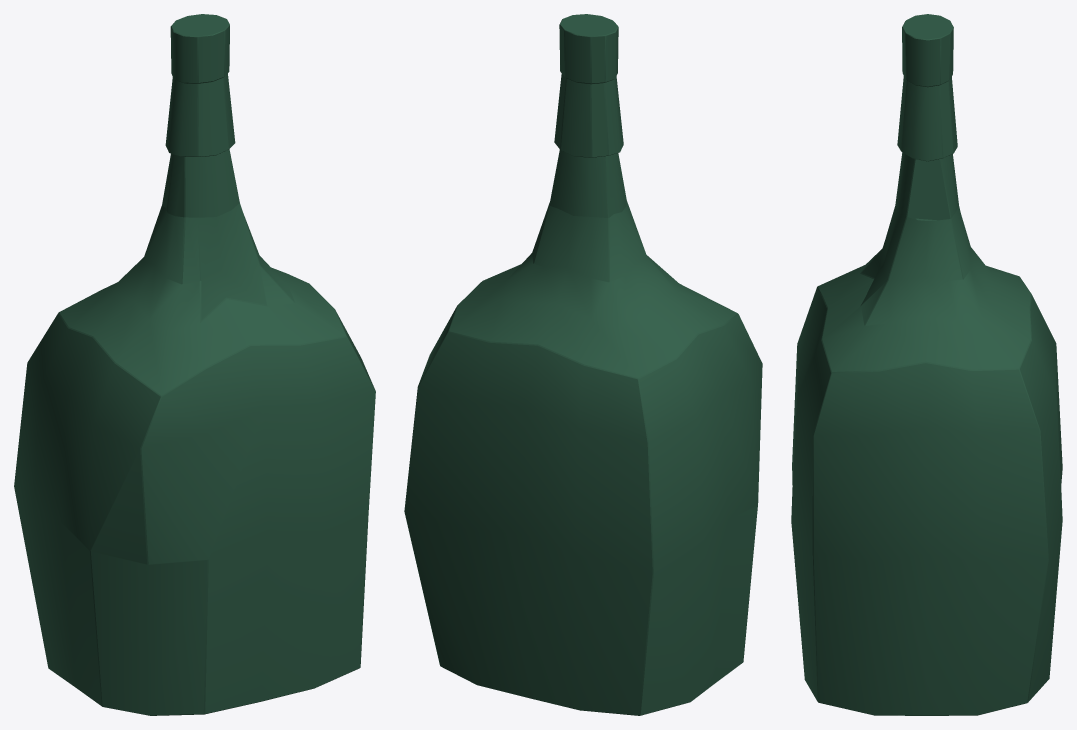
File: UD_TIR_Bottle_03_Medium.glb
3 renders of one model, left to right at view 1: azimuth 30°, elevation 25°; view 2: azimuth 150°, elevation 25°; view 3: azimuth 270°, elevation 25°, orthographic.
Parts seen in each view (by area): view 1: Bottle_03_Medium; view 2: Bottle_03_Medium; view 3: Bottle_03_Medium.
Boxes of the visible parts, x1,y1,x2,y2 form: Bottle_03_Medium: (14,14,375,715); Bottle_03_Medium: (404,14,762,715); Bottle_03_Medium: (791,14,1062,715).
Bounding box in the file's own units: 0.1164 × 0.2497 × 0.0976.
Materials: 1 (1 with a texture image).
